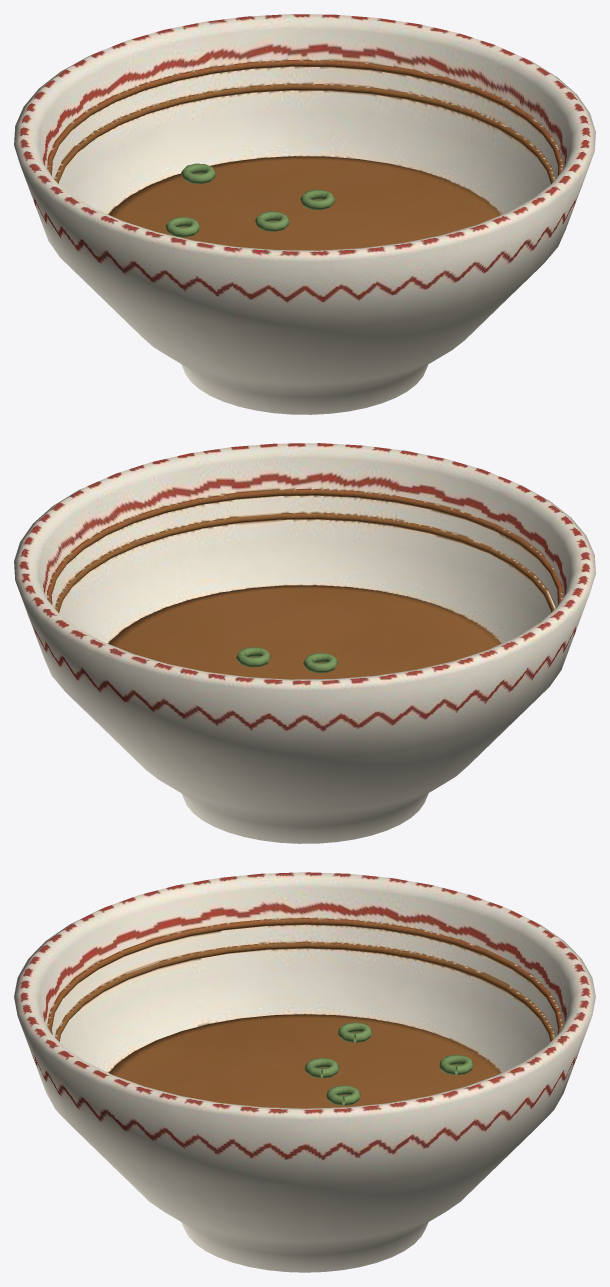
Rendered from ramen_shoyu_nn2.glb.
3 views of the same model, one above another, from view 1: azimuth 30°, elevation 25°; view 2: azimuth 150°, elevation 25°; view 3: azimuth 270°, elevation 25° (orthographic).
Visible parts, largest first — view 1: prop_ramen_shoyu_nn2_felt; view 2: prop_ramen_shoyu_nn2_felt; view 3: prop_ramen_shoyu_nn2_felt.
Boxes of the visible parts, box(x1,y1,x2,y2) form: prop_ramen_shoyu_nn2_felt: box(14, 14, 595, 414); prop_ramen_shoyu_nn2_felt: box(14, 443, 595, 843); prop_ramen_shoyu_nn2_felt: box(14, 872, 595, 1272).
Size of the model in its own units: 0.3 by 0.1305 by 0.3.
1 material, 1 textured.
